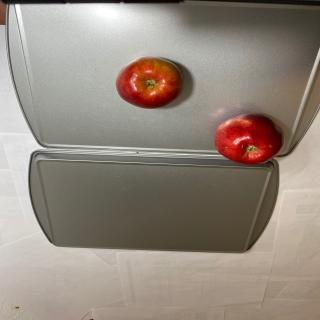Apple: (214, 113, 285, 165), (115, 56, 183, 109)
